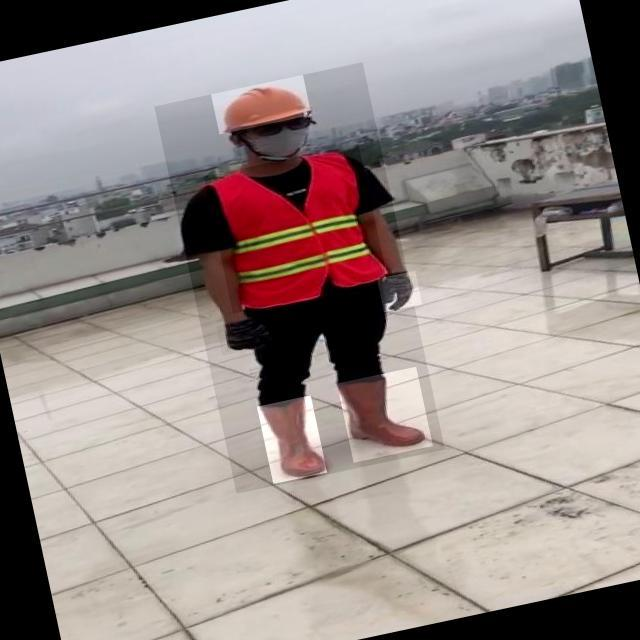Gloves: (216, 314, 276, 355), (377, 271, 422, 312)
Helmet: (211, 74, 311, 134)
Human: (154, 62, 445, 494)
Safety Boot: (337, 366, 434, 462), (257, 395, 327, 485)
Safety Vest: (204, 143, 388, 313)
